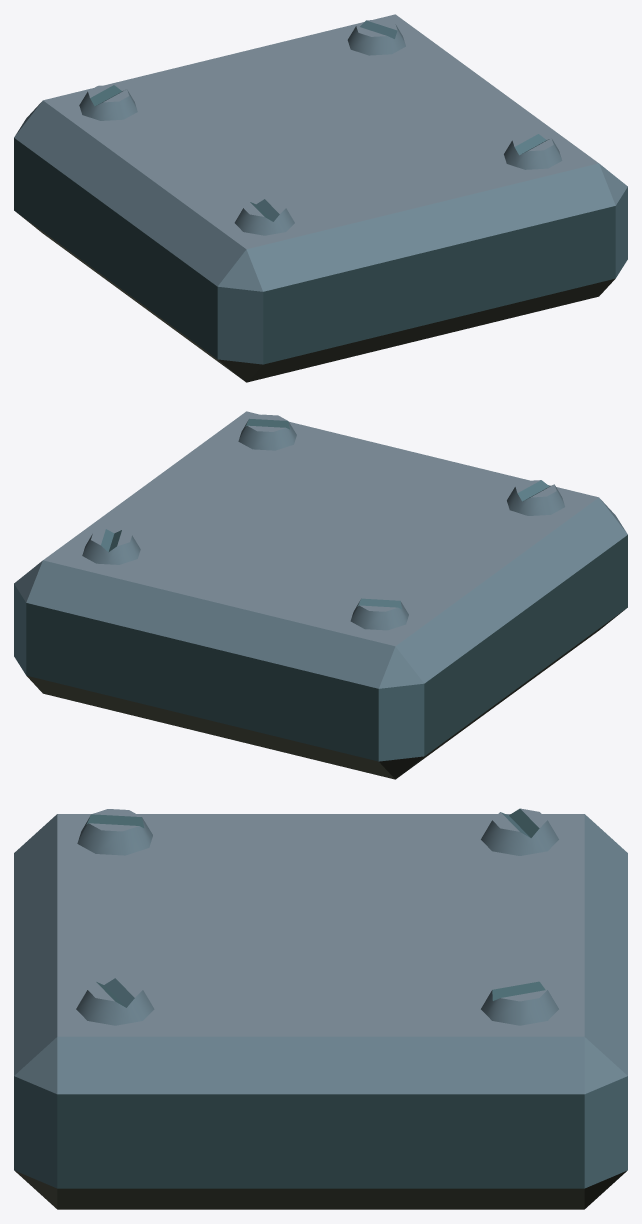
File: m_kub_metal_floorPlate.FBX
The picture shows the model from 3 angles, top to bottom: view 1: azimuth 30°, elevation 25°; view 2: azimuth 150°, elevation 25°; view 3: azimuth 270°, elevation 25°; orthographic projection. The views are drawn at different scales.
Visible parts, largest first — view 1: m_kub_metal_floorPlate; view 2: m_kub_metal_floorPlate; view 3: m_kub_metal_floorPlate.
Boxes of the visible parts, box(x1,y1,x2,y2) form: m_kub_metal_floorPlate: box(14, 14, 627, 382); m_kub_metal_floorPlate: box(14, 411, 627, 779); m_kub_metal_floorPlate: box(14, 808, 627, 1209).
Size of the model in its own units: 2.18 by 0.7512 by 2.18.
